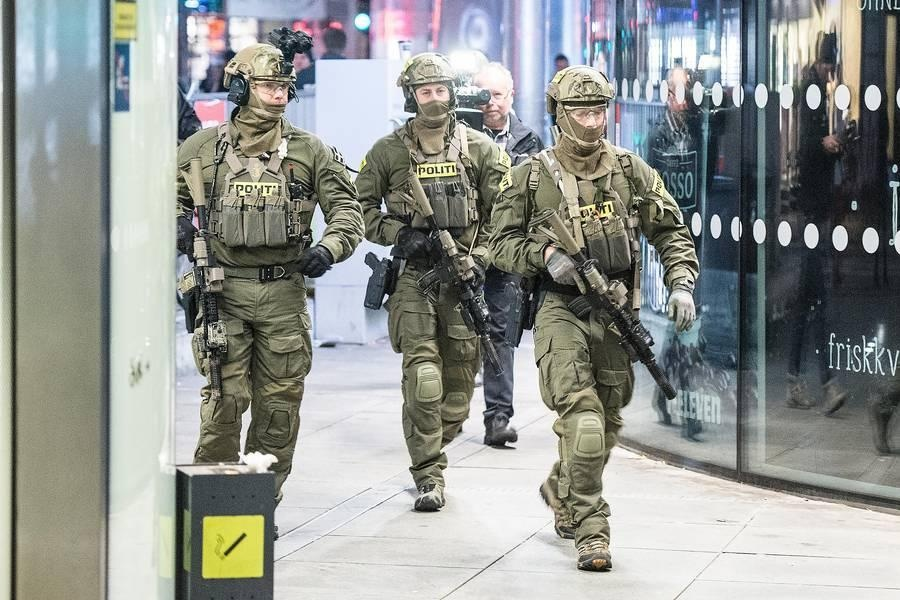Mask: (413, 81, 451, 119)
